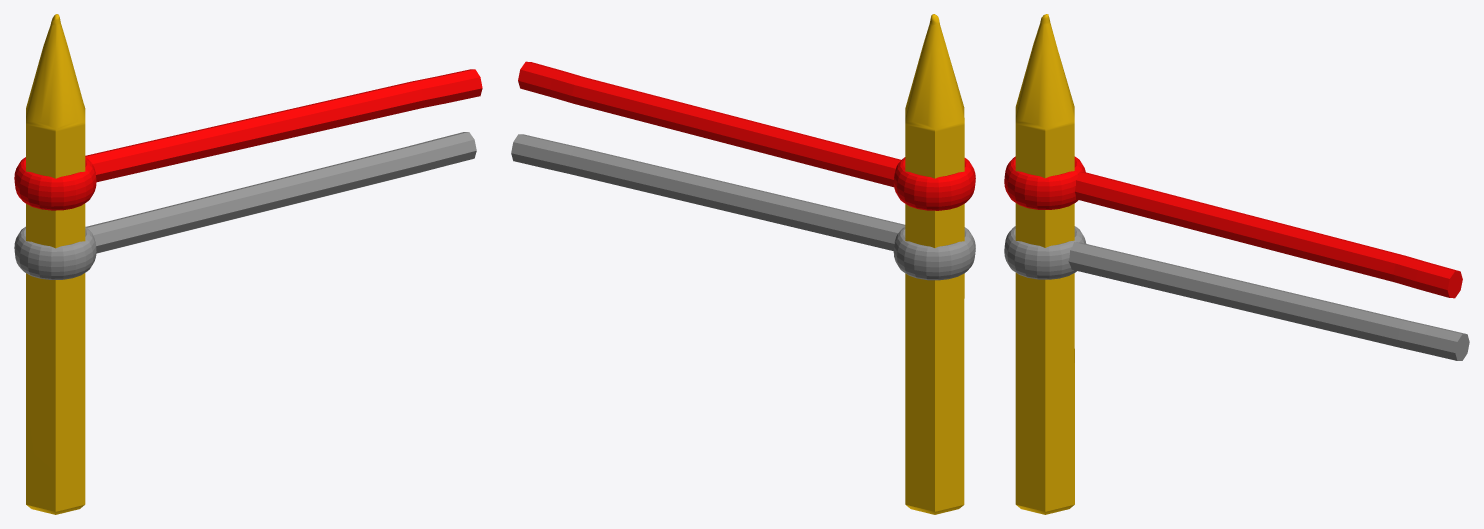
The model's file is LaZhu_hlB.fbx.
The picture shows the model from 3 angles, left to right: view 1: azimuth 30°, elevation 25°; view 2: azimuth 150°, elevation 25°; view 3: azimuth 330°, elevation 25°; orthographic projection.
Visible parts, largest first — view 1: B; view 2: B; view 3: B.
Part boxes in pixels (x1,y1,x2,y2): B: (14, 14, 482, 514); B: (511, 14, 975, 514); B: (1004, 14, 1469, 514).
Size of the model in its own units: 21.45 by 22.38 by 3.4.
